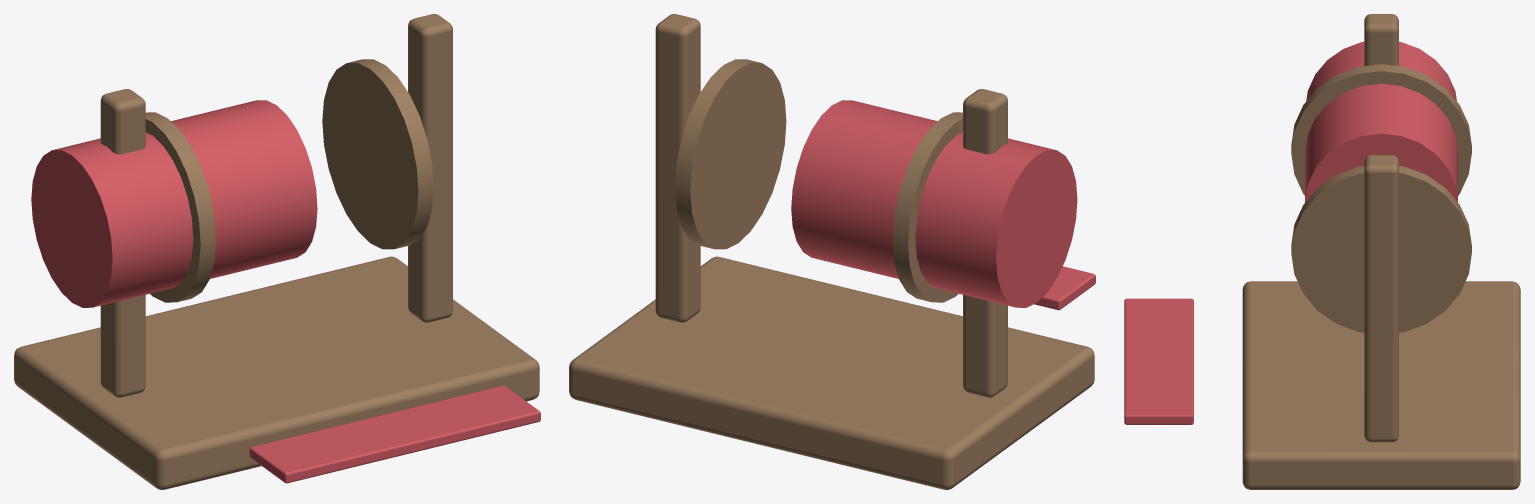
File: chocolate-making-and-confectionery-ribbon-spool-holder-59fbf84c__39180.glb
The picture shows the model from 3 angles, left to right: view 1: azimuth 30°, elevation 25°; view 2: azimuth 150°, elevation 25°; view 3: azimuth 270°, elevation 25°; orthographic projection. The views are drawn at different scales.
Parts seen in each view (by area): view 1: ribbon-spool-holder; view 2: ribbon-spool-holder; view 3: ribbon-spool-holder.
Part boxes in pixels (bbox=[...]): ribbon-spool-holder: bbox=[14, 14, 540, 489]; ribbon-spool-holder: bbox=[569, 14, 1095, 489]; ribbon-spool-holder: bbox=[1124, 14, 1520, 489].
Size of the model in its own units: 0.31 by 0.25 by 0.285.
